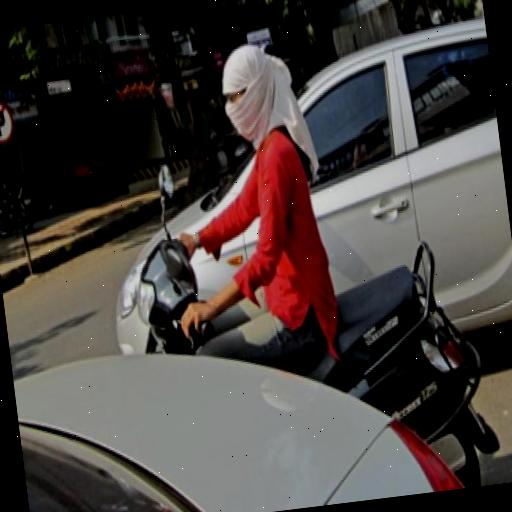no helmet: (97, 6, 396, 421)
